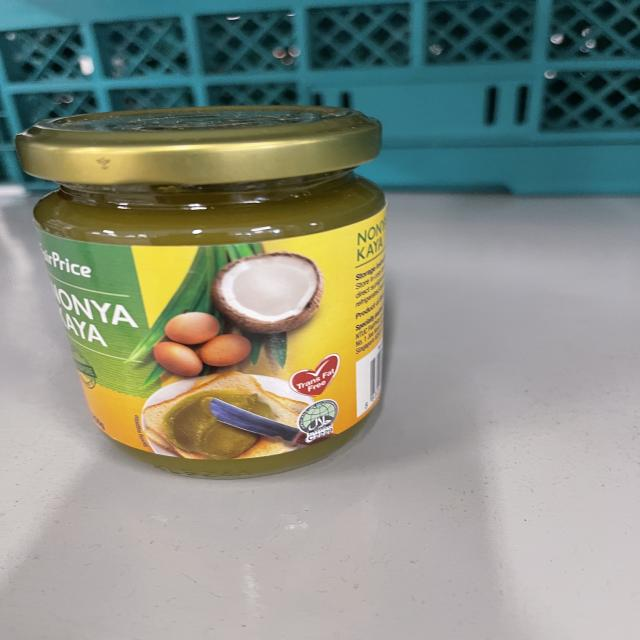object_name: (16, 114, 391, 477)
